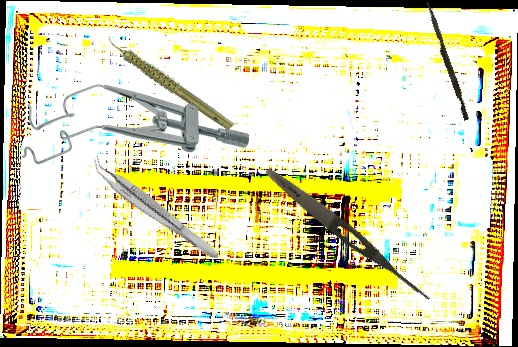Dressing Forceps: (261, 163, 436, 306)
Handpiece: (104, 10, 237, 153)
Pusher: (422, 1, 472, 121)
Speculum: (22, 84, 249, 165)
Tissue Forceps: (84, 154, 227, 263)
